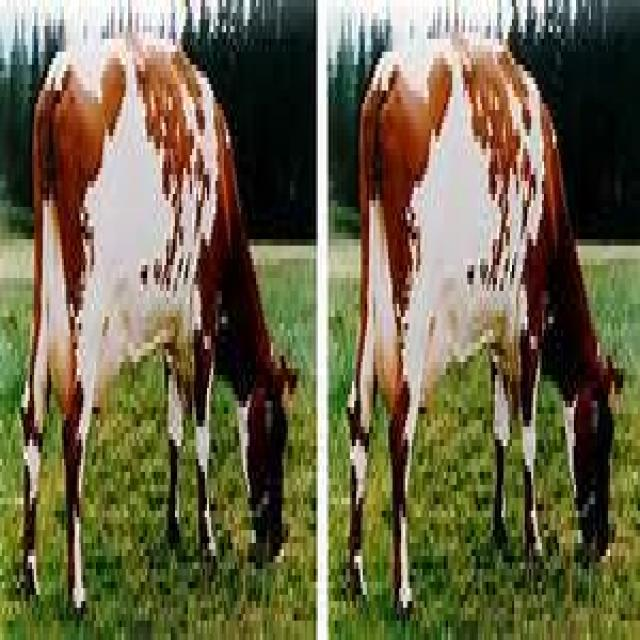cow: (23, 32, 294, 621), (350, 32, 619, 621)
